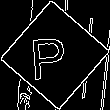P_N: (35, 28, 75, 82)
